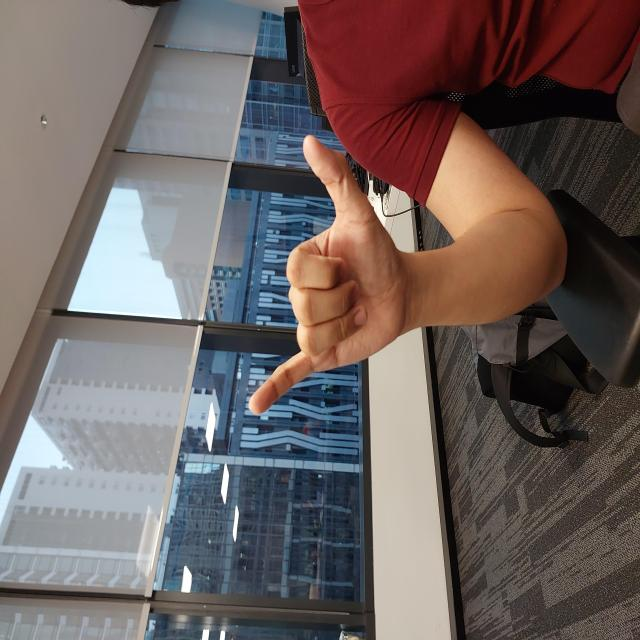Y: (222, 246, 509, 411)
